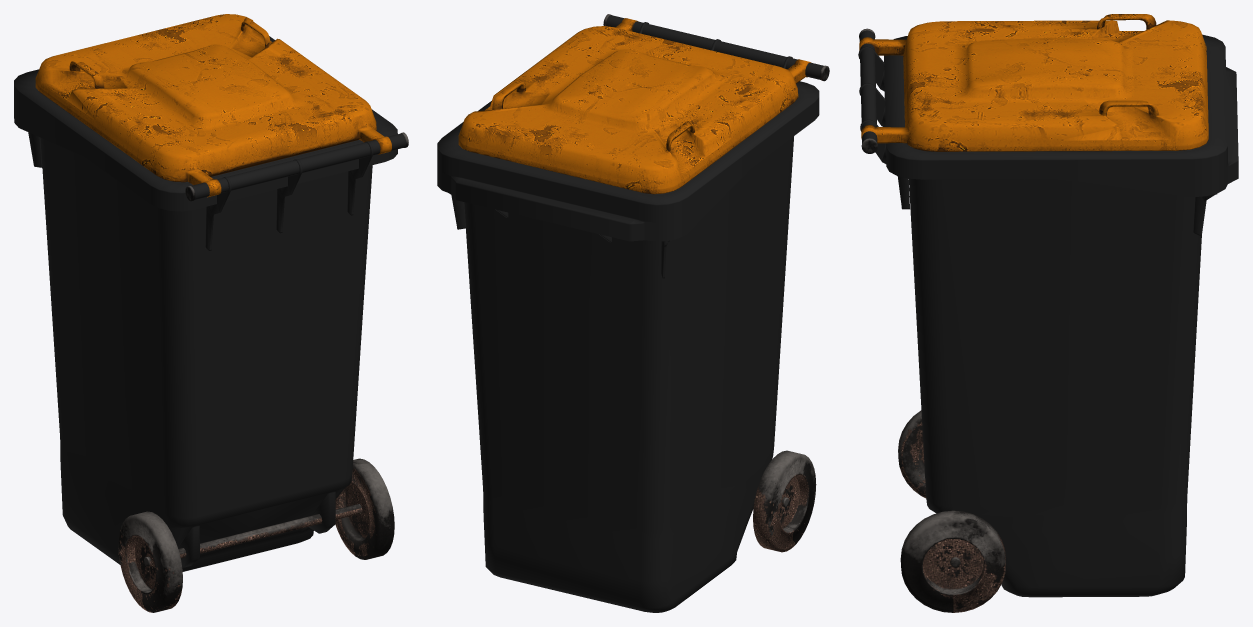
The model's file is poubelle.glb.
3 views of the same model, side by side, from view 1: azimuth 30°, elevation 25°; view 2: azimuth 150°, elevation 25°; view 3: azimuth 270°, elevation 25° (orthographic). The views are drawn at different scales.
Visible parts, largest first — view 1: Container.001; view 2: Container.001; view 3: Container.001.
Boxes of the visible parts, <box> form: Container.001: <box>14,14,408,612</box>; Container.001: <box>437,14,829,612</box>; Container.001: <box>858,14,1238,612</box>.
Size of the model in its own units: 0.2414 by 0.4438 by 0.3083.
3 materials, 3 textured.
